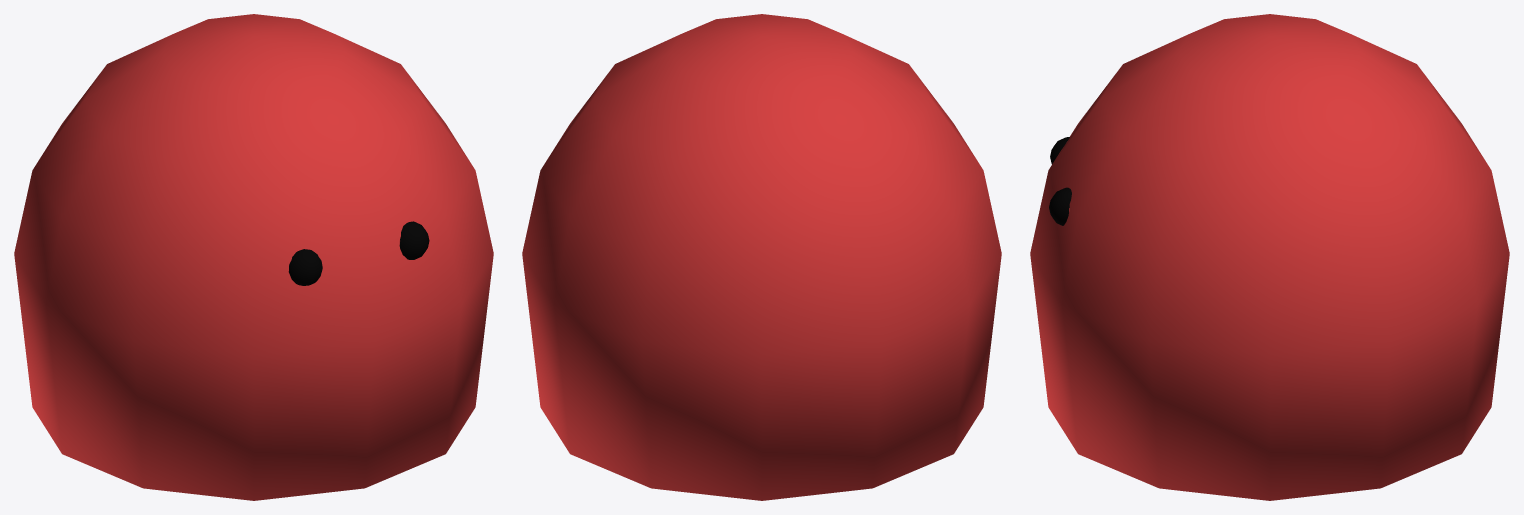
The model's file is GumDropMonster.fbx.
3 renders of one model, left to right at view 1: azimuth 30°, elevation 25°; view 2: azimuth 150°, elevation 25°; view 3: azimuth 270°, elevation 25°, orthographic.
Parts seen in each view (by area): view 1: Sphere; view 2: Sphere; view 3: Sphere.
Part boxes in pixels (box(x1,y1,x2,y2)): Sphere: box(14, 14, 493, 500); Sphere: box(522, 14, 1001, 500); Sphere: box(1030, 14, 1509, 500).
Size of the model in its own units: 200 by 171 by 200.
